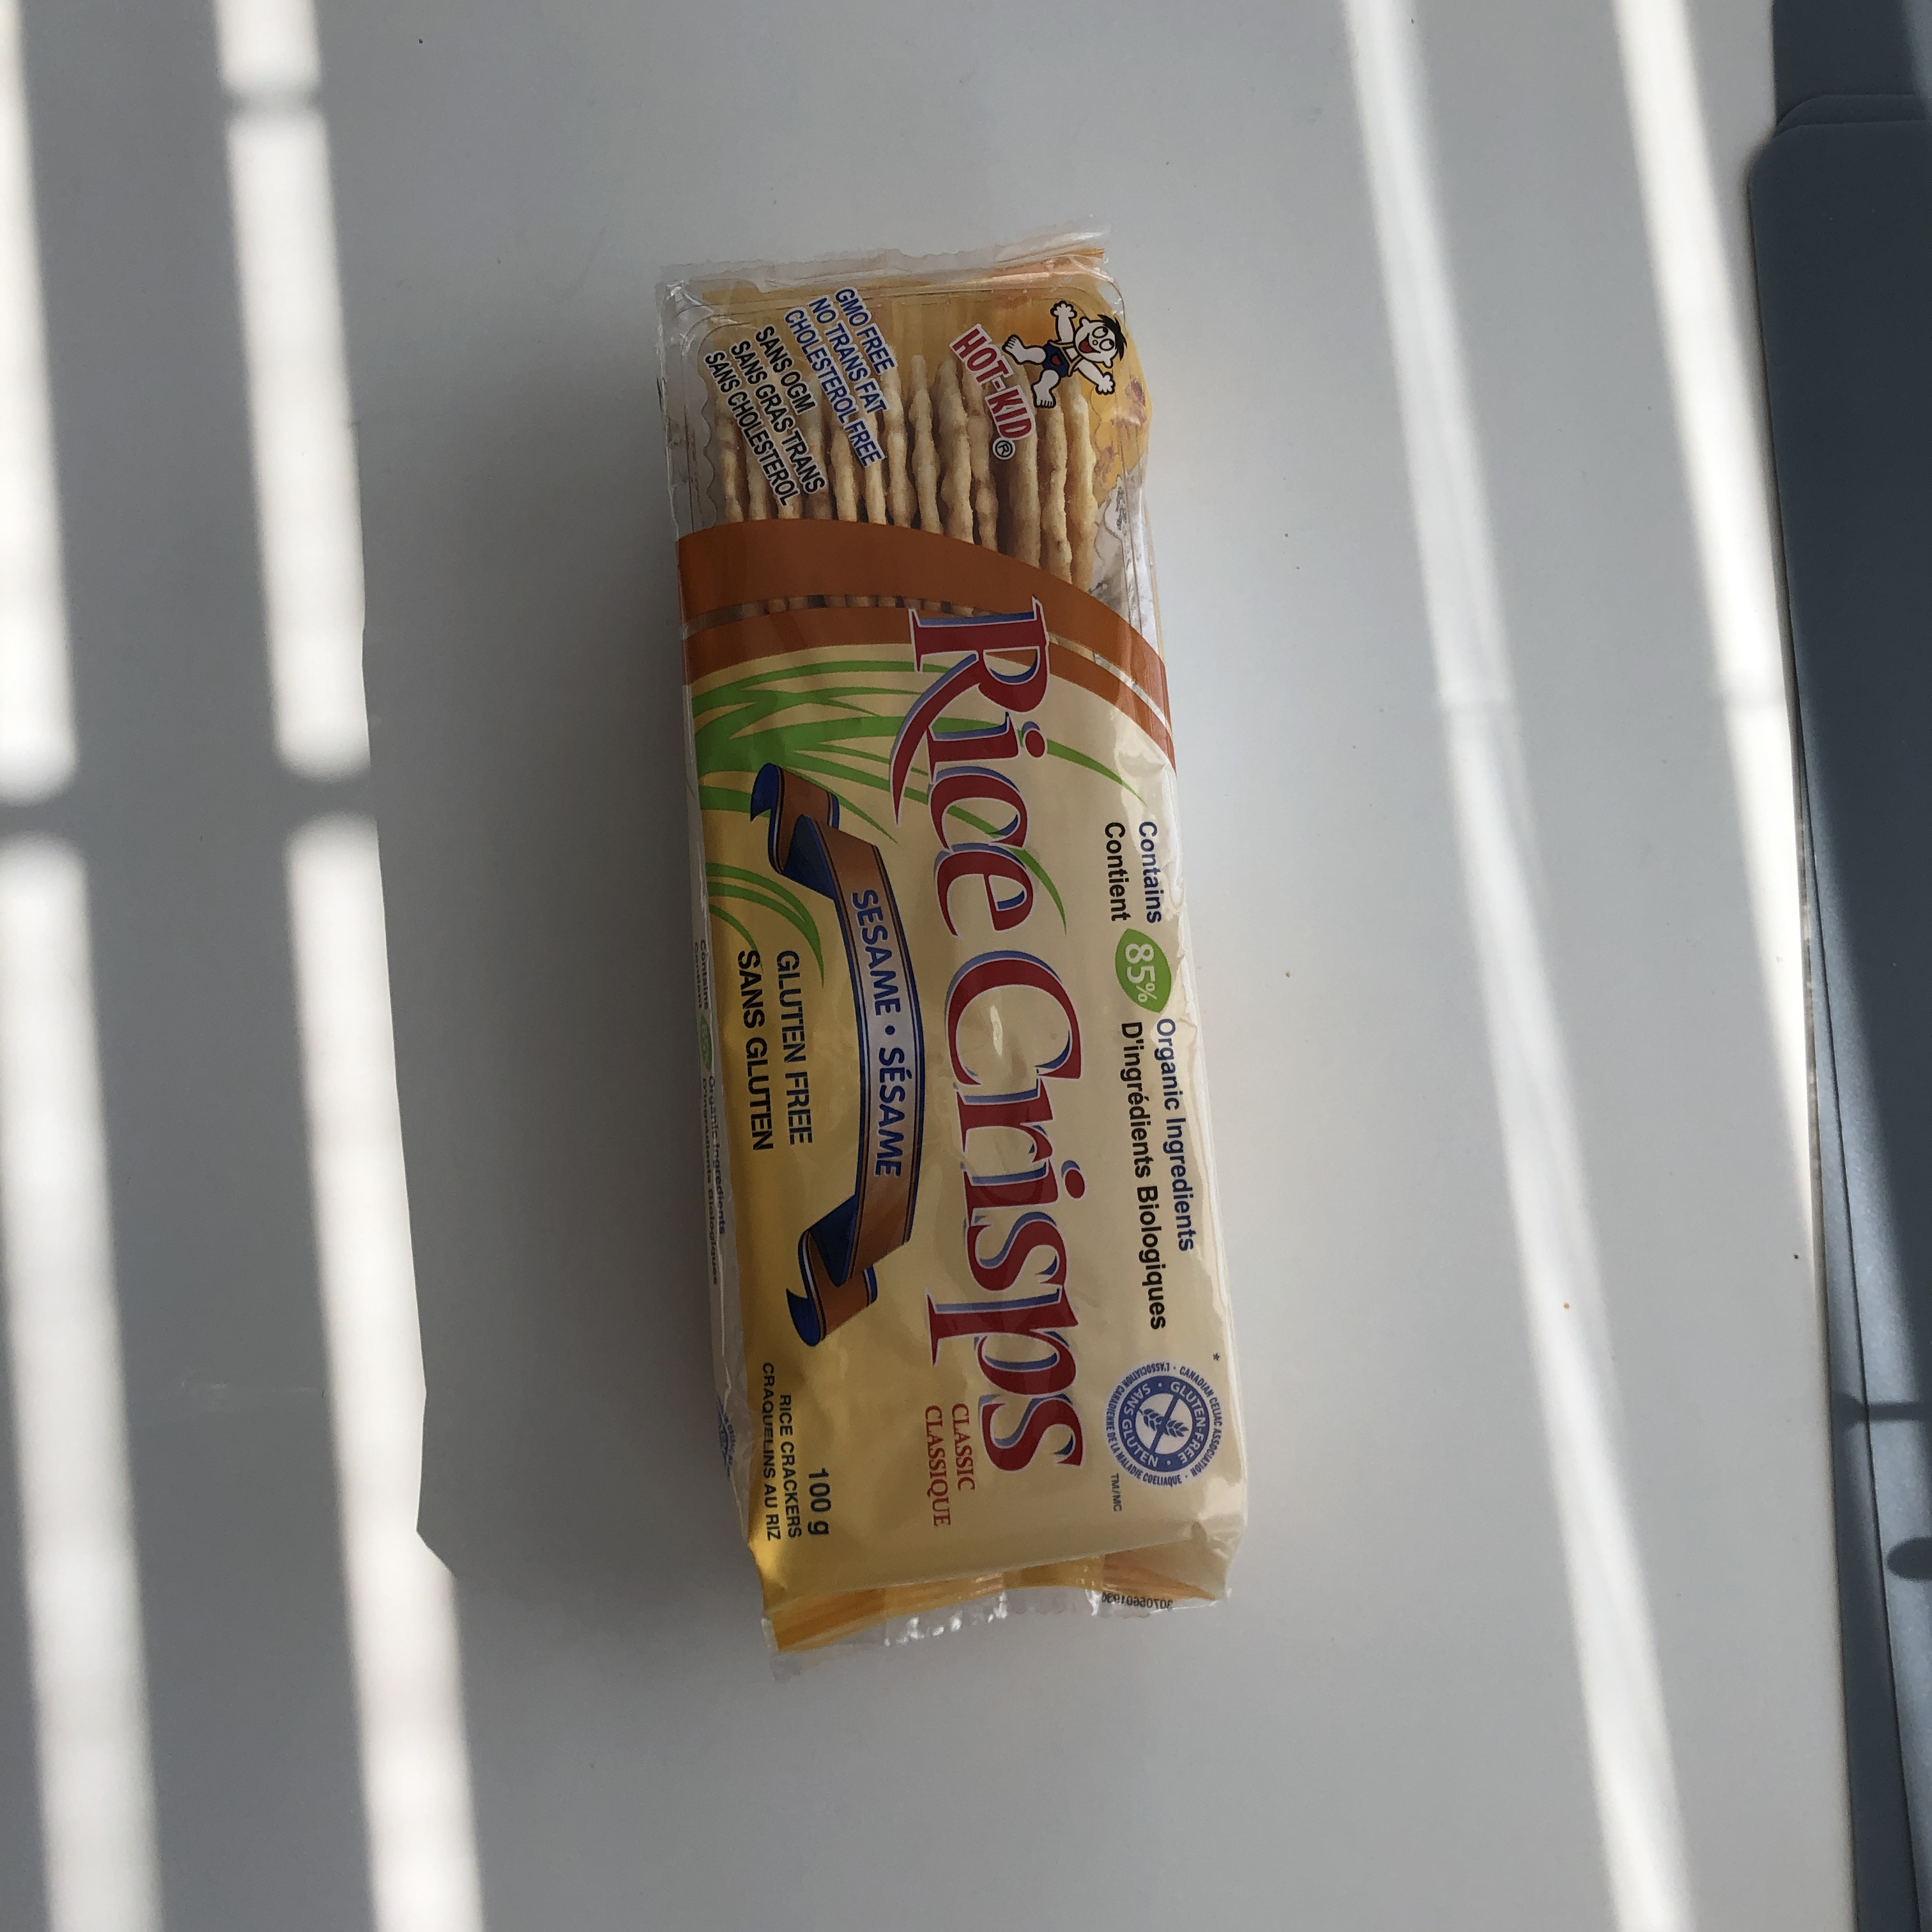hot_kid_rice_crisps_sesame: (231, 730, 1670, 1228)
